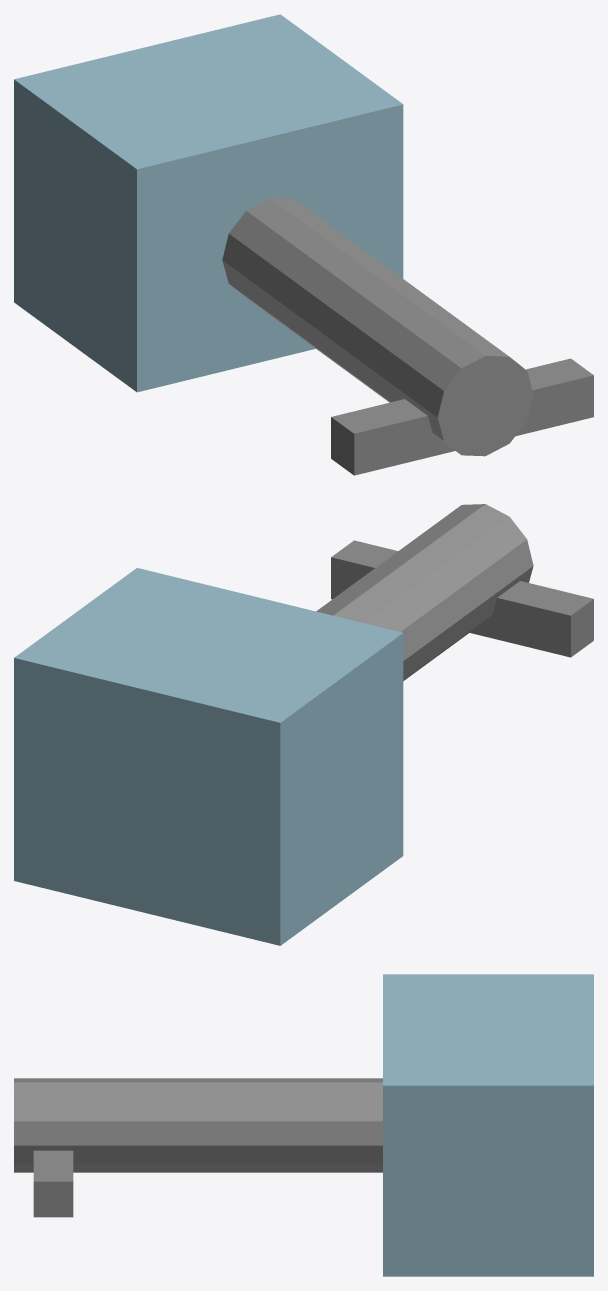
The model's file is water_pump.glb.
3 renders of one model, top to bottom at view 1: azimuth 30°, elevation 25°; view 2: azimuth 150°, elevation 25°; view 3: azimuth 270°, elevation 25°, orthographic. The views are drawn at different scales.
Parts seen in each view (by area): view 1: base, pipe, handle; view 2: base, pipe, handle; view 3: base, pipe, handle.
Part boxes in pixels (x1,y1,x2,y2): base: (14,14,403,392); pipe: (222,198,533,456); handle: (331,358,593,475); base: (14,568,403,945); pipe: (316,504,533,680); handle: (331,540,593,657); base: (383,974,593,1276); pipe: (14,1078,382,1172); handle: (33,1150,73,1217).
Bounding box in the file's own units: 1 × 0.8 × 2.2.
